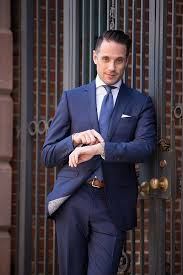F_M_suit jacket: (42, 87, 161, 210)
F_belt: (67, 172, 128, 200)
F_tie: (99, 88, 116, 146)
